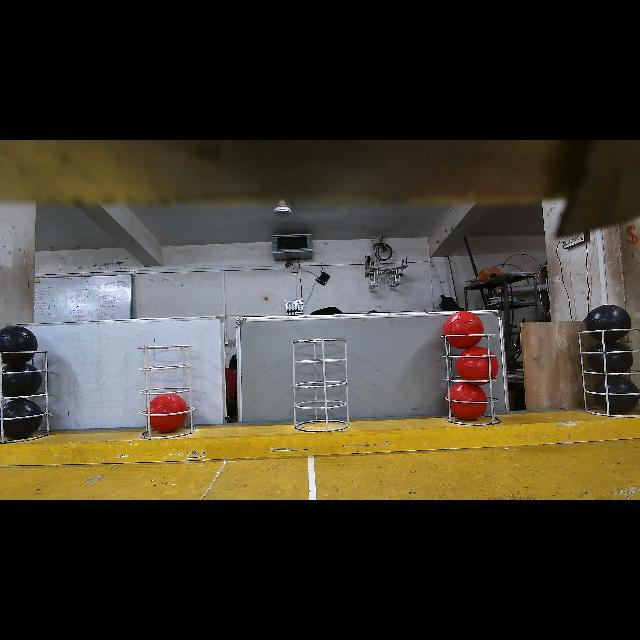P: (584, 305, 632, 342), (3, 398, 45, 438), (594, 375, 639, 412), (588, 341, 634, 373), (0, 326, 38, 364), (2, 362, 42, 397)
R: (147, 394, 188, 433), (449, 383, 487, 421), (444, 312, 483, 349), (457, 347, 498, 382)
S: (576, 328, 640, 419), (137, 341, 195, 441), (290, 339, 350, 435), (440, 333, 500, 427), (0, 350, 50, 446)
